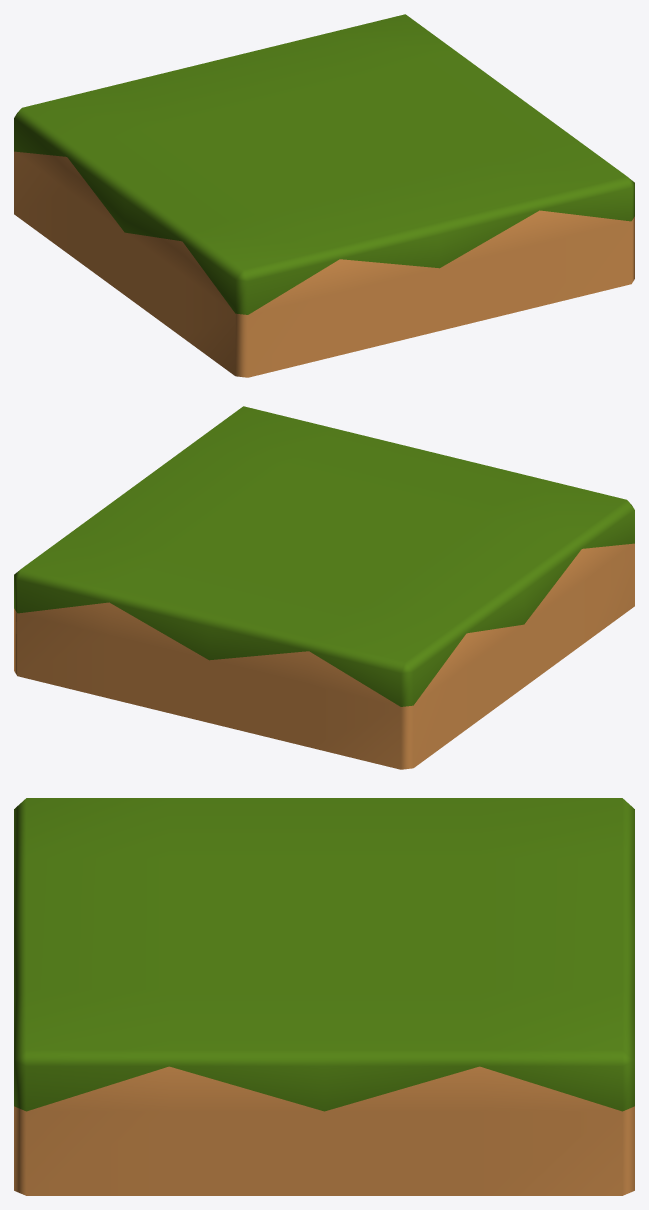
Rendered from shop_display.glb.
3 renders of one model, top to bottom at view 1: azimuth 30°, elevation 25°; view 2: azimuth 150°, elevation 25°; view 3: azimuth 270°, elevation 25°, orthographic. The views are drawn at different scales.
Visible parts, largest first — view 1: shop_display; view 2: shop_display; view 3: shop_display.
Boxes of the visible parts, x1,y1,x2,y2 form: shop_display: (14,14,634,377); shop_display: (14,406,634,769); shop_display: (14,798,634,1195).
Size of the model in its own units: 1 by 0.25 by 1.
